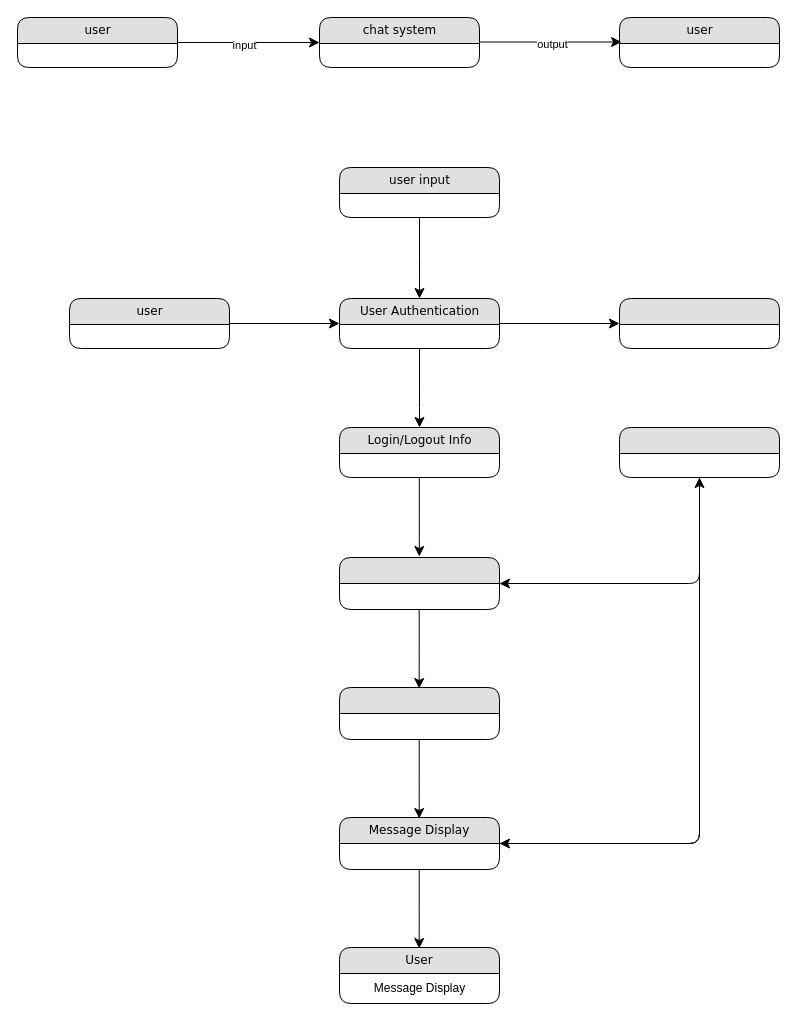
The diagram is 797 pixels wide and 1021 high, and some of its shapes have lost their labels. Here are the shapes that lost their labels. From the top down, the centre of each, then its label:
[699,323]: user database
[699,452]: Message Database
[419,583]: Message Handling
[419,713]: Message Content
